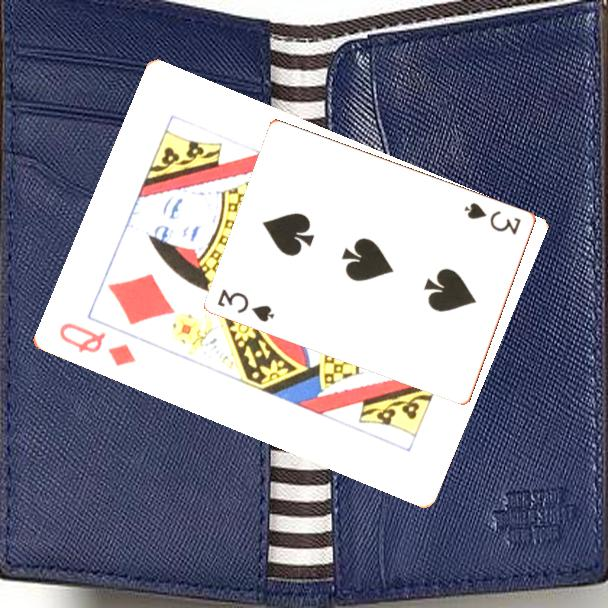d12: (54, 319, 138, 369)
s03: (214, 285, 278, 325), (461, 199, 524, 237)
